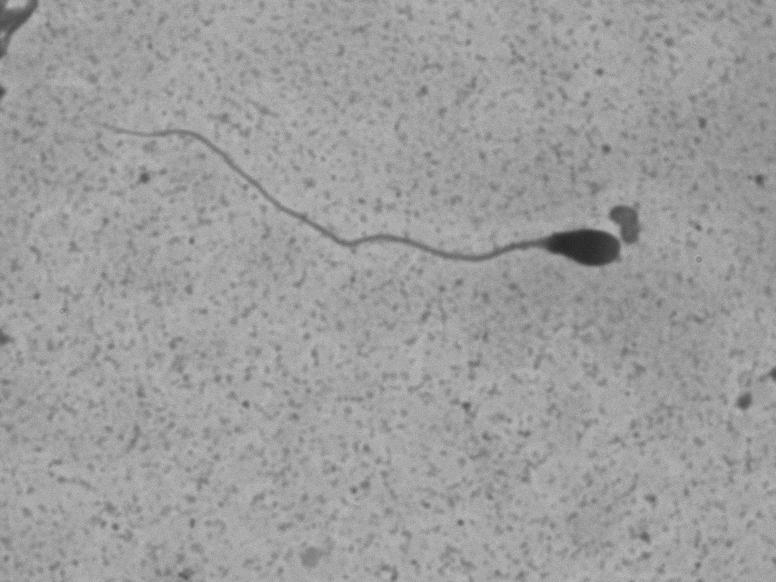Abnormal: (87, 117, 623, 330)
